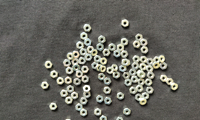nut: (41, 82, 49, 90), (45, 61, 53, 69), (50, 71, 58, 79), (65, 97, 73, 105), (66, 67, 74, 75), (83, 85, 91, 93), (79, 57, 87, 65), (76, 42, 84, 50), (84, 39, 92, 47), (104, 87, 112, 95), (121, 38, 129, 46), (123, 72, 131, 80), (129, 69, 137, 77), (141, 46, 149, 54), (136, 85, 144, 93), (147, 58, 155, 66), (160, 62, 168, 70), (158, 55, 166, 63), (160, 75, 168, 83), (166, 78, 174, 86), (171, 83, 179, 91), (122, 19, 129, 28), (50, 103, 57, 111), (57, 78, 65, 85), (61, 90, 68, 98), (65, 77, 72, 85), (71, 92, 78, 100), (63, 60, 71, 67), (67, 53, 75, 60), (74, 78, 81, 86), (73, 64, 80, 72), (76, 104, 83, 112), (81, 109, 88, 117), (80, 98, 88, 105), (80, 49, 88, 56), (84, 25, 92, 32), (87, 46, 94, 54), (85, 54, 93, 61), (91, 49, 98, 57), (94, 55, 101, 63), (92, 62, 99, 70), (97, 43, 104, 51), (99, 36, 106, 44), (96, 64, 103, 72), (103, 49, 111, 56), (98, 74, 106, 81), (104, 78, 112, 85), (95, 109, 102, 117), (107, 67, 114, 75), (111, 65, 119, 72), (114, 50, 121, 58), (124, 108, 131, 116), (117, 44, 124, 52), (121, 51, 129, 58), (120, 65, 127, 73), (122, 59, 129, 67), (125, 79, 132, 87), (130, 87, 137, 95), (131, 76, 139, 83), (132, 63, 140, 70), (133, 56, 141, 63), (133, 41, 141, 48), (136, 34, 143, 42), (140, 98, 147, 106), (146, 87, 154, 94), (138, 72, 146, 79), (145, 79, 153, 86), (141, 56, 148, 64), (147, 72, 155, 79), (67, 86, 74, 93), (76, 71, 83, 78), (73, 51, 80, 58), (84, 92, 91, 99), (82, 76, 89, 83), (82, 66, 89, 73), (81, 33, 88, 40), (100, 58, 107, 65), (109, 44, 116, 51), (97, 96, 104, 103), (105, 98, 112, 105), (113, 72, 120, 79), (117, 93, 124, 100), (124, 60, 131, 67), (141, 39, 148, 46), (138, 79, 145, 86), (143, 93, 150, 100), (137, 70, 144, 77), (140, 64, 147, 71), (147, 66, 154, 73), (153, 62, 160, 69), (136, 94, 142, 102), (72, 59, 79, 65), (100, 66, 106, 73), (154, 57, 160, 63), (100, 116, 108, 120), (117, 117, 124, 120), (65, 119, 73, 120)
